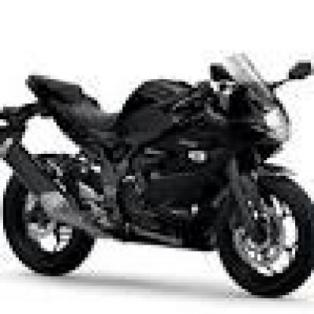Motocicleta: (3, 48, 313, 298)
